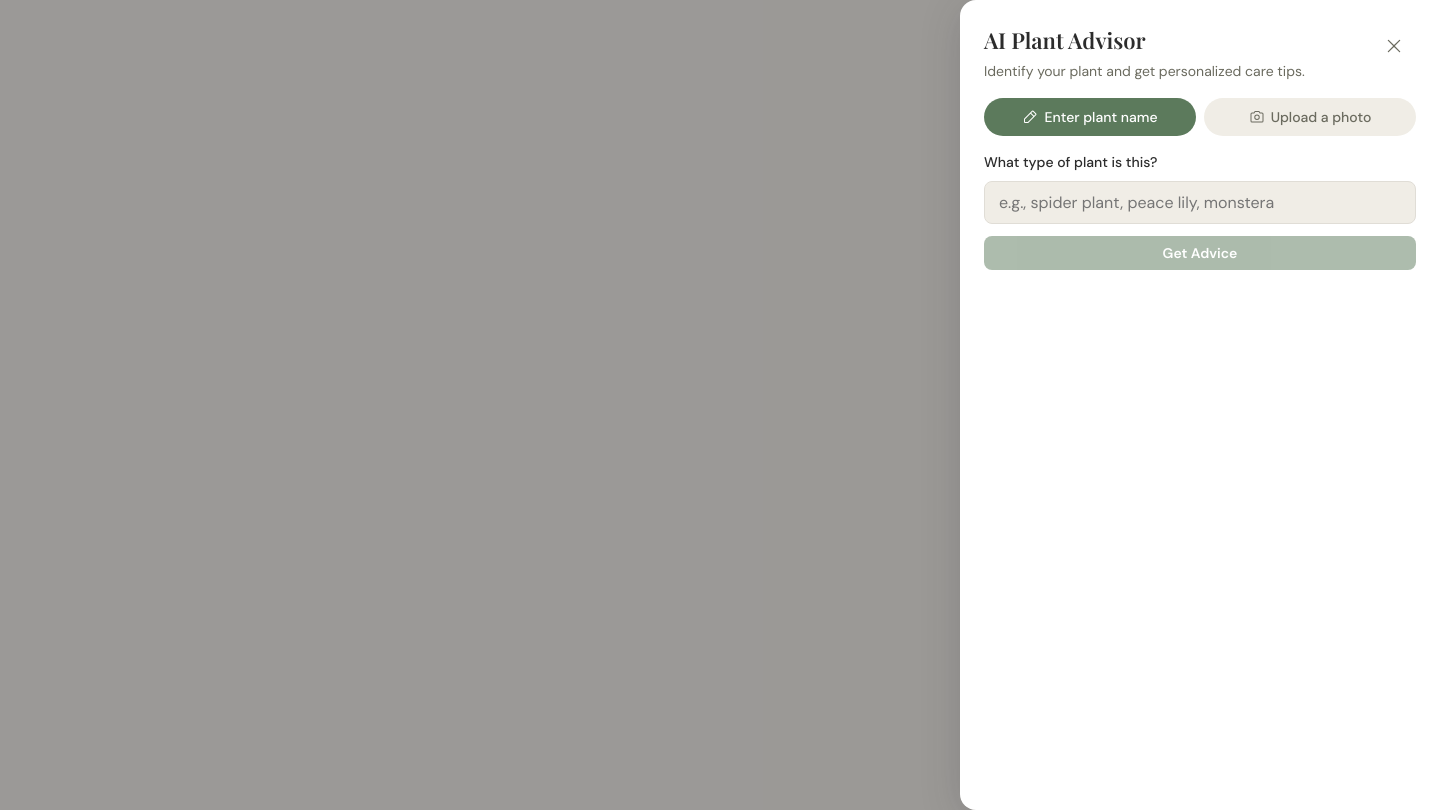
Scenario: AIAdvicePanel — T-079 Text-Based Flow › shows error with retry on 502
Type "spider plant" into the field named "Plant type name".
click(1200, 202); type("spider plant")  # box [984,181,1416,224]
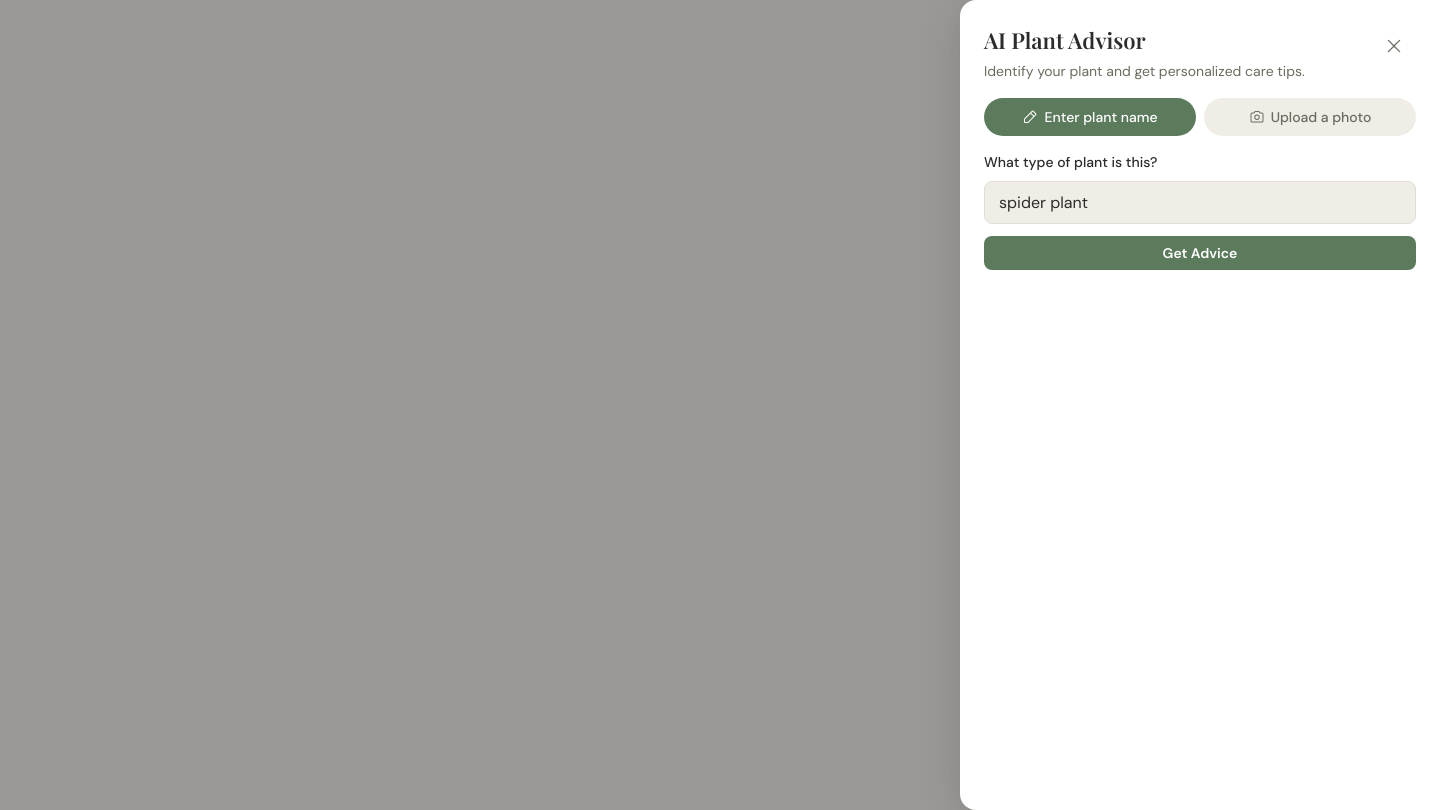
Click the button "Get Advice".
click(1200, 253)  # box [984,236,1416,270]
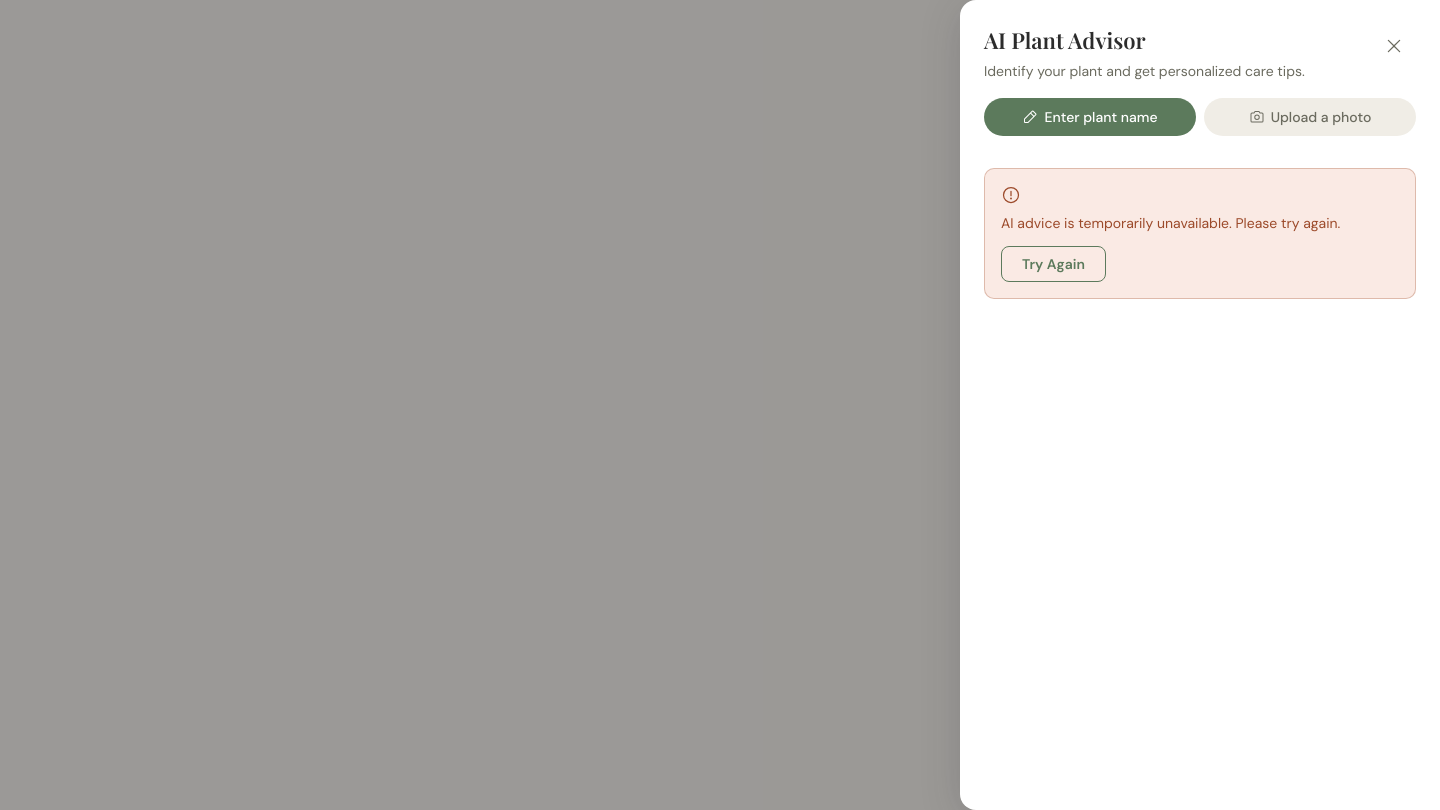
Result: the text "AI advice is temporarily unavailable. Please try again." is shown at [1001,213,1340,234]
Result: the button "Try Again" is shown at [1001,246,1106,282]
